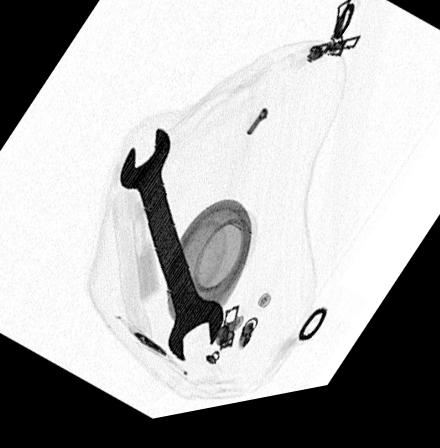Wrench: (119, 134, 224, 369)
